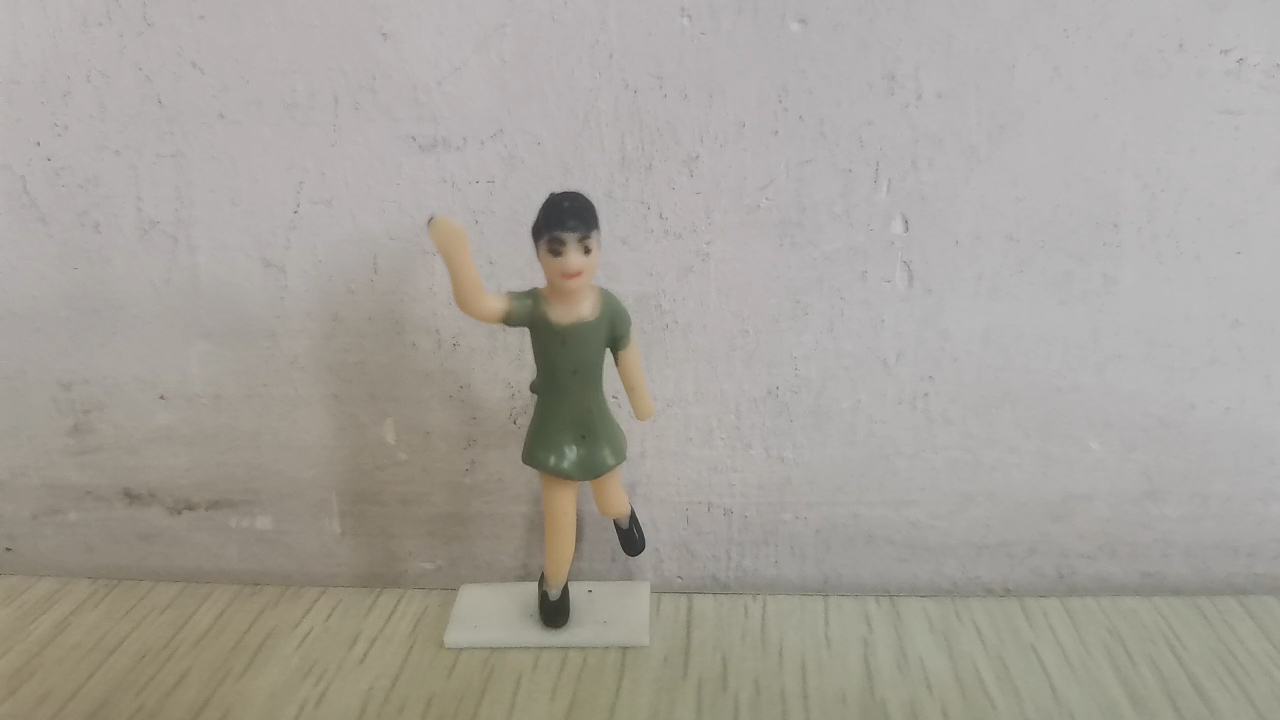person: (423, 189, 659, 632)
